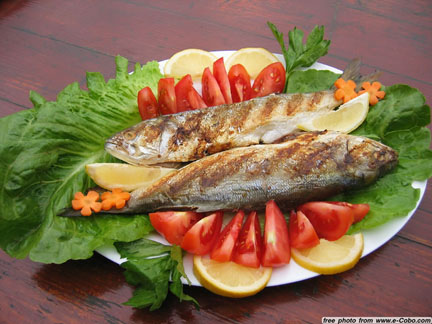fish: (53, 129, 400, 216), (104, 91, 343, 169)
